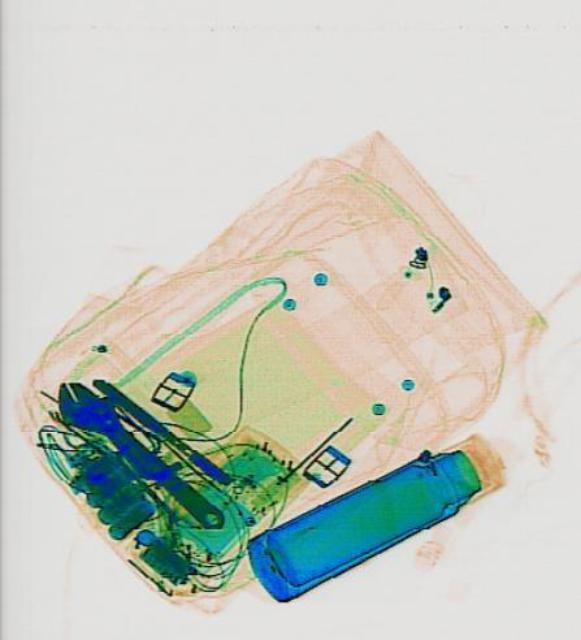Wrench: (41, 369, 236, 545)
